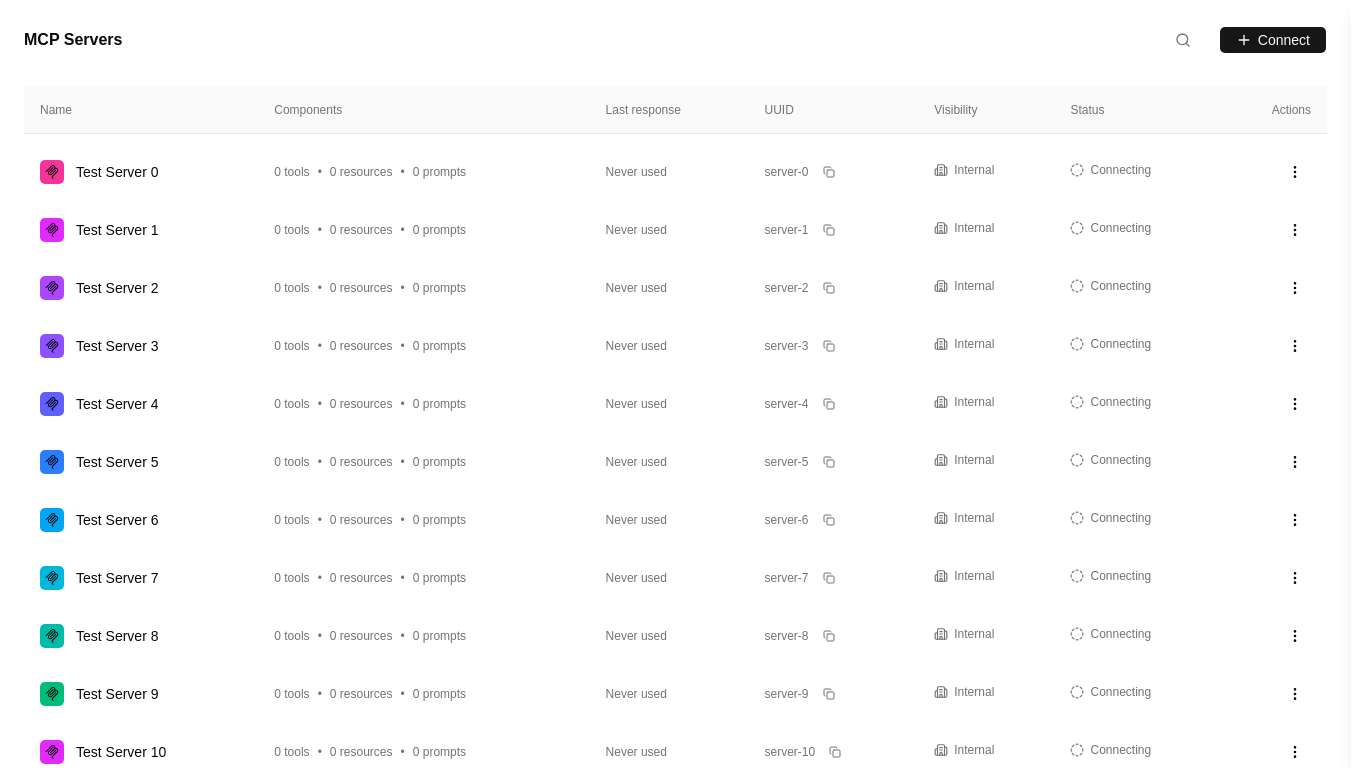
Test: Servers › displays server metadata in details panel
This screenshot has width=1366, height=768.
Expected: the text "Test Server 0" is shown, x1=76 y1=162 x2=158 y2=182
Click the button named "actions for".
click(1295, 172)  # box x1=1279 y1=156 x2=1311 y2=188
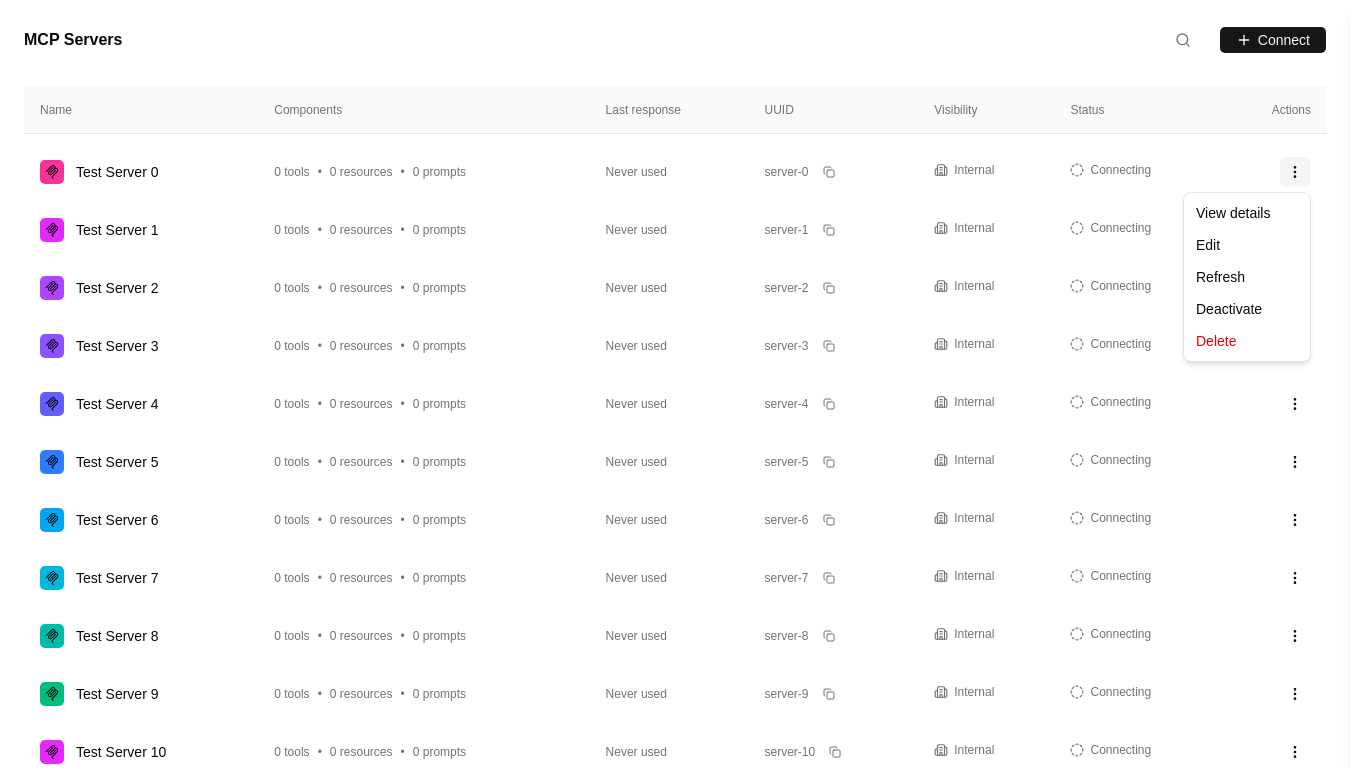
Click the menu item "View details".
click(1233, 213)  # box x1=1196 y1=205 x2=1270 y2=221
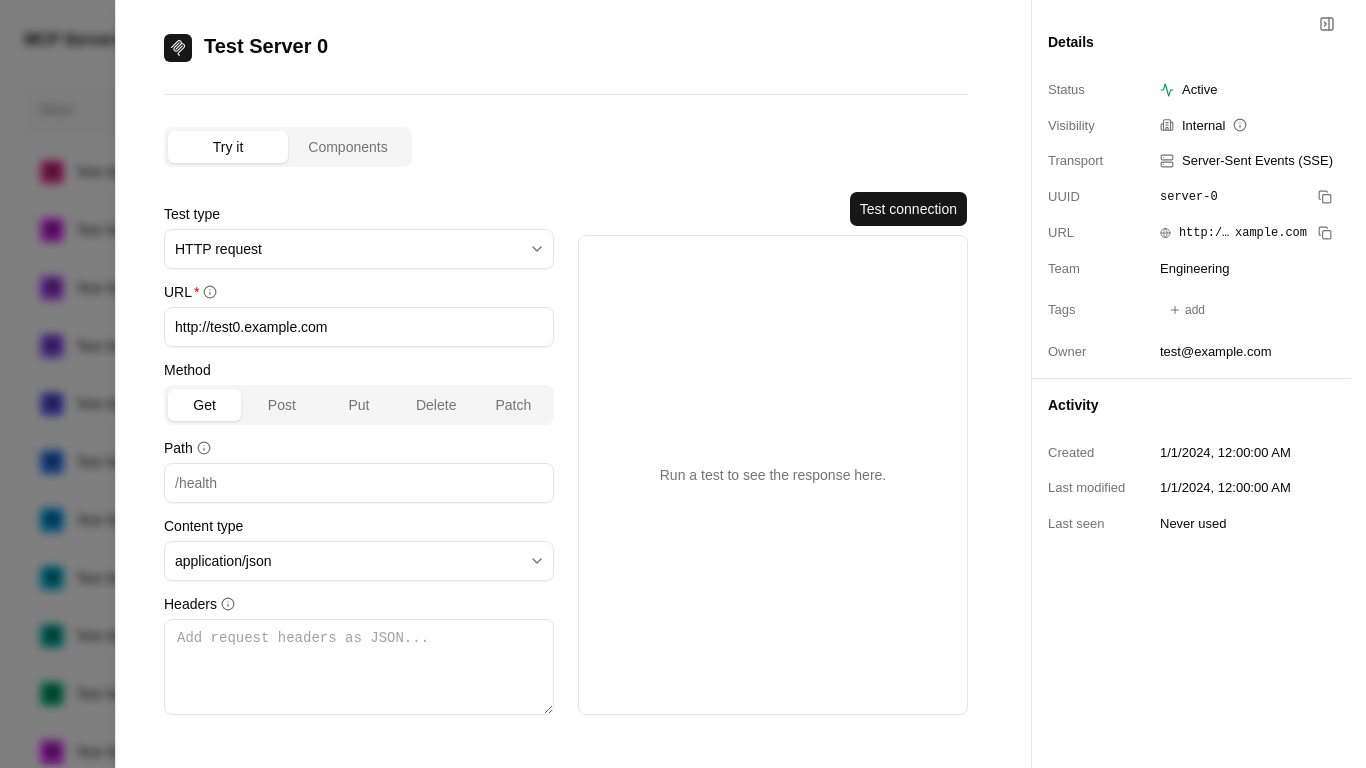
Result: the text "Active" is shown at x1=1160 y1=82 x2=1217 y2=97
Result: the text "Internal" is shown at x1=1160 y1=118 x2=1247 y2=132
Result: the text "Server-Sent Events (SSE)" is shown at x1=1160 y1=151 x2=1335 y2=170
